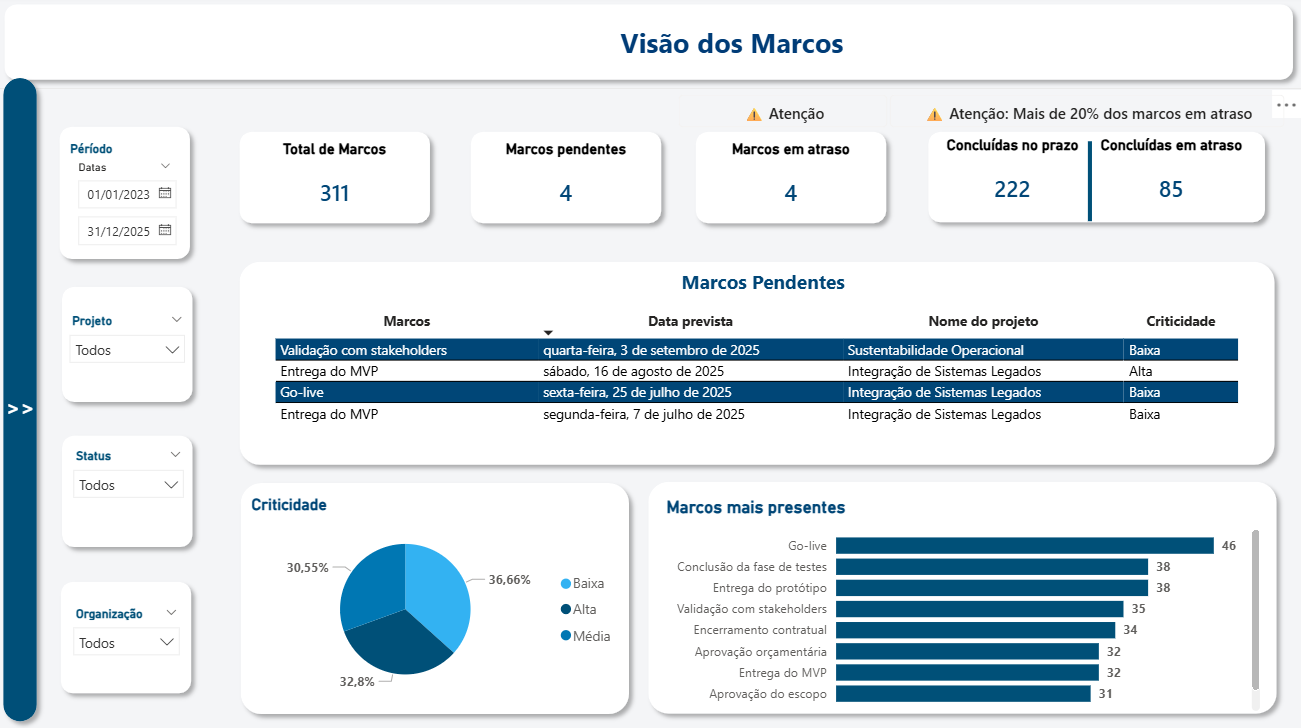

Layout of this report page (visuals, bound fields, positions):
{"tool":"powerbi","page":{"name":"Marcos","canvas":[1280,720],"ordinal":2},"visuals":[{"type":"shape","box":[0,72.5,50.9,647.5],"z":0,"group":"g14"},{"type":"shape","box":[54.5,120,145.6,147.4],"z":0,"group":"g2"},{"type":"shape","box":[230.6,125,204.3,107.5],"z":0,"group":"g9"},{"type":"shape","box":[456.8,125,204.3,107.5],"z":0,"group":"g10"},{"type":"shape","box":[677.8,125,204.3,107.5],"z":0,"group":"g11"},{"type":"shape","box":[904.9,125,347.4,106.7],"z":0,"group":"g7"},{"type":"group","id":"g1","title":"Grupo 4","box":[230.6,251.4,1030.6,216.7],"z":0,"group":"g12"},{"type":"shape","box":[230.6,251.4,1030.6,216.7],"z":0,"group":"g1"},{"type":"shape","box":[57.5,276.6,145.6,130.7],"z":0,"group":"g4"},{"type":"shape","box":[56.9,422,145.6,127.2],"z":0,"group":"g3"},{"type":"shape","box":[631.2,467.5,632.7,244.9],"z":0,"group":"g6"},{"type":"shape","box":[232.5,468.8,397.9,244],"z":0,"group":"g8"},{"type":"shape","box":[56,565.1,145.6,127.2],"z":0,"group":"g5"},{"type":"group","id":"g2","title":"Grupo 9","box":[54.5,120,146.1,149.1],"z":1000,"group":"g13"},{"type":"cardVisual","title":"Concluídas em atraso","fields":{"Data":["CountNonNull(fato_marcos.nome_marco)"]},"box":[1062.7,138.7,178.4,82.3],"z":1000,"group":"g7"},{"type":"cardVisual","title":"Total de Marcos","fields":{"Data":["CountNonNull(fato_marcos.nome_marco)"]},"box":[253.1,142.3,160.2,83.4],"z":1000,"group":"g9"},{"type":"cardVisual","title":"Marcos pendentes","fields":{"Data":["CountNonNull(fato_marcos.nome_marco)"]},"box":[479.3,142.3,160.2,83.4],"z":1000,"group":"g10"},{"type":"cardVisual","title":"Marcos em atraso","fields":{"Data":["Medidas.Marcos_Em_Atraso"]},"box":[700.3,142.3,160.2,83.4],"z":1000,"group":"g11"},{"type":"slicer","title":"Péríodo","fields":{"Values":["dim_calendario.data"]},"box":[69.4,143.7,115.8,113.2],"z":1000,"group":"g2"},{"type":"textbox","box":[610.4,262,281.9,37.5],"z":1000,"group":"g12"},{"type":"tableEx","fields":{"Values":["fato_marcos.nome_marco","fato_marcos.data_prevista","dim_projeto.nome_projeto","fato_marcos.criticidade"]},"box":[268.7,302.2,954.2,143.1],"z":1000,"group":"g1"},{"type":"slicer","fields":{"Values":["dim_projeto.nome_projeto"]},"box":[63.4,307.7,133.3,77.2],"z":1000,"group":"g4"},{"type":"actionButton","title":">>>","box":[0,379.8,51.6,46.7],"z":1000,"group":"g14"},{"type":"group","id":"g3","title":"Grupo 7","box":[56.9,422,145.6,127.2],"z":1000},{"type":"slicer","fields":{"Values":["dim_projeto.status"]},"box":[67.1,438.6,128.3,86.7],"z":1000,"group":"g3"},{"type":"pieChart","title":"Criticidade","fields":{"Category":["fato_marcos.criticidade"],"Y":["CountNonNull(fato_marcos.criticidade)"]},"box":[247.5,489.8,370.1,200],"z":1000,"group":"g8"},{"type":"barChart","title":"Marcos mais presentes","fields":{"Category":["fato_marcos.nome_marco"],"Y":["CountNonNull(fato_marcos.nome_marco)"]},"box":[653,490.5,590.6,215.1],"z":1000,"group":"g6"},{"type":"slicer","fields":{"Values":["dim_projeto.departamento","dim_gerente.nome_gerente"]},"box":[66.6,592.7,124.3,76],"z":1000,"group":"g5"},{"type":"shape","box":[1.5,0,1278.5,91.9],"z":2000},{"type":"shape","box":[1007.8,142.8,129,78.2],"z":2000,"group":"g7"},{"type":"group","id":"g4","title":"Grupo 8","box":[57.5,276.6,146.1,129.5],"z":2000,"group":"g13"},{"type":"cardVisual","title":"Concluídas no prazo","fields":{"Data":["CountNonNull(fato_marcos.nome_marco)"]},"box":[907.1,138.2,178.4,82.3],"z":3000,"group":"g7"},{"type":"group","id":"g5","title":"Grupo 7","box":[56,565.1,145.9,127.5],"z":3000},{"type":"group","id":"g6","title":"Grupo 11","box":[631.2,467.5,632.5,245.5],"z":4000},{"type":"group","id":"g7","title":"Grupo 5","box":[904.9,125,348.1,106.2],"z":5000},{"type":"group","id":"g8","title":"Grupo 3","box":[232.5,468.8,397.9,244],"z":6000},{"type":"group","id":"g9","title":"Grupo 5","box":[230.6,125,201.4,105.6],"z":7000},{"type":"group","id":"g10","title":"Grupo 5","box":[456.8,125,202.5,107.4],"z":8000},{"type":"group","id":"g11","title":"Grupo 5","box":[677.8,125,201.2,107.4],"z":9000},{"type":"group","id":"g12","title":"Grupo 6","box":[230.6,251.4,1030.6,216.7],"z":10000},{"type":"cardVisual","fields":{"Data":["Medidas.Aviso_Marcos_Atraso"]},"box":[652.8,80.6,238.9,66.7],"z":11000},{"type":"cardVisual","fields":{"Data":["Medidas.Aviso_Marcos_Concluidas_Atraso"]},"box":[859.2,80.6,420.8,66.7],"z":12000},{"type":"textbox","box":[589.2,23.8,265.2,57.2],"z":13000},{"type":"group","id":"g13","title":"Grupo 3","box":[54.5,120,149.1,286.1],"z":14000},{"type":"group","id":"g14","title":"Grupo 2","box":[0,72.5,51.6,647.3],"z":15000}]}

Visuals, with their boxes in screenshot pixels (x1, y1, x2, y2), scaled from the page's 1280x720 canvas onto the 1301x728 screenshot:
shape: 0,73,52,727
shape: 55,121,203,270
shape: 234,126,442,235
shape: 464,126,672,235
shape: 689,126,897,235
shape: 920,126,1273,234
"Grupo 4" group: 234,254,1282,473
shape: 234,254,1282,473
shape: 58,280,206,412
shape: 58,427,206,555
shape: 642,473,1285,720
shape: 236,474,641,721
shape: 57,571,205,700
"Grupo 9" group: 55,121,204,272
"Concluídas em atraso" cardVisual: 1080,140,1261,223
"Total de Marcos" cardVisual: 257,144,420,228
"Marcos pendentes" cardVisual: 487,144,650,228
"Marcos em atraso" cardVisual: 712,144,875,228
"Péríodo" slicer: 71,145,188,260
textbox: 620,265,907,303
tableEx - fato_marcos.nome_marco x fato_marcos.data_prevista: 273,306,1243,450
slicer - dim_projeto.nome_projeto: 64,311,200,389
">>>" actionButton: 0,384,52,431
"Grupo 7" group: 58,427,206,555
slicer - dim_projeto.status: 68,443,199,531
"Criticidade" pieChart: 252,495,628,697
"Marcos mais presentes" barChart: 664,496,1264,713
slicer - dim_projeto.departamento x dim_gerente.nome_gerente: 68,599,194,676
shape: 2,0,1300,93
shape: 1024,144,1155,223
"Grupo 8" group: 58,280,207,411
"Concluídas no prazo" cardVisual: 922,140,1103,223
"Grupo 7" group: 57,571,205,700
"Grupo 11" group: 642,473,1284,721
"Grupo 5" group: 920,126,1274,234
"Grupo 3" group: 236,474,641,721
"Grupo 5" group: 234,126,439,233
"Grupo 5" group: 464,126,670,235
"Grupo 5" group: 689,126,893,235
"Grupo 6" group: 234,254,1282,473
cardVisual - Medidas.Aviso_Marcos_Atraso: 664,81,906,149
cardVisual - Medidas.Aviso_Marcos_Concluidas_Atraso: 873,81,1300,149
textbox: 599,24,868,82
"Grupo 3" group: 55,121,207,411
"Grupo 2" group: 0,73,52,727
